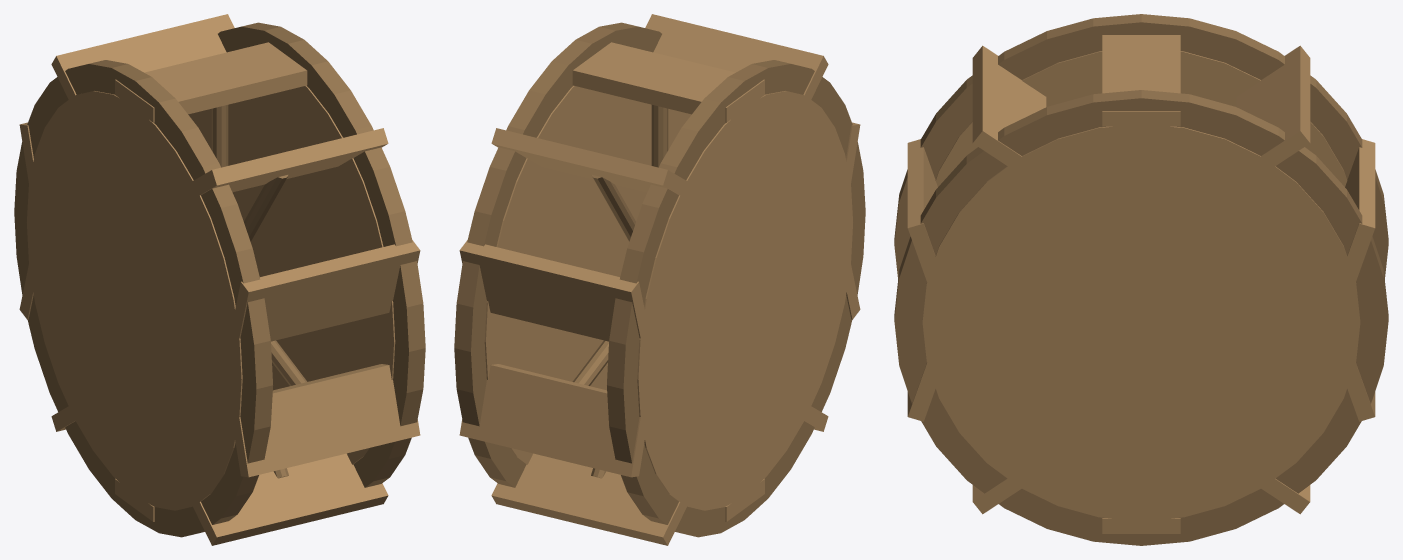
The model's file is hydro_rotor0.obj.
The picture shows the model from 3 angles, left to right: view 1: azimuth 30°, elevation 25°; view 2: azimuth 150°, elevation 25°; view 3: azimuth 270°, elevation 25°; orthographic projection.
Size of the model in its own units: 0.36 by 0.88 by 0.88.
Materials: 1 (1 with a texture image).
